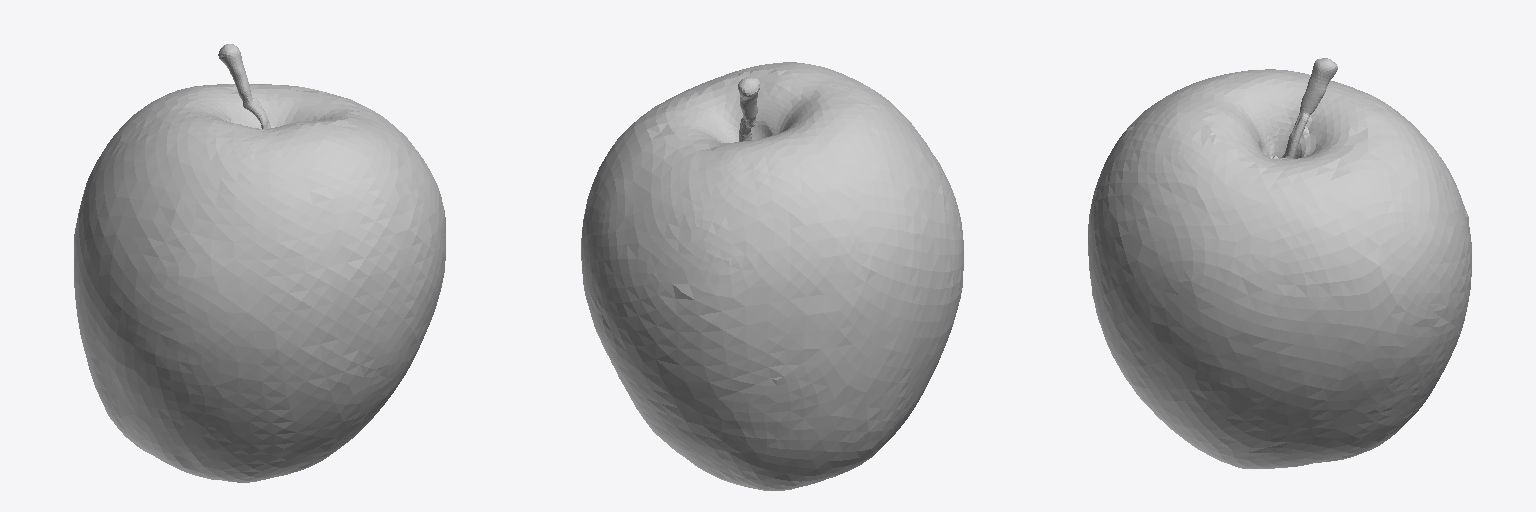
The model's file is apple.obj.
The picture shows the model from 3 angles: view 1: azimuth 30°, elevation 25°; view 2: azimuth 150°, elevation 25°; view 3: azimuth 270°, elevation 25°; orthographic projection.
Visible parts, largest first — view 1: objapple; view 2: objapple; view 3: objapple.
Part boxes in pixels (x1,y1,x2,y2): objapple: (74, 44, 445, 482); objapple: (581, 62, 963, 490); objapple: (1088, 58, 1471, 468).
Bounding box in the file's own units: 1.33 × 1.53 × 1.36.